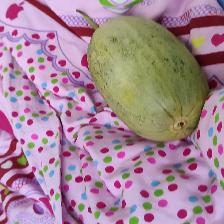gua: (76, 15, 205, 136)
